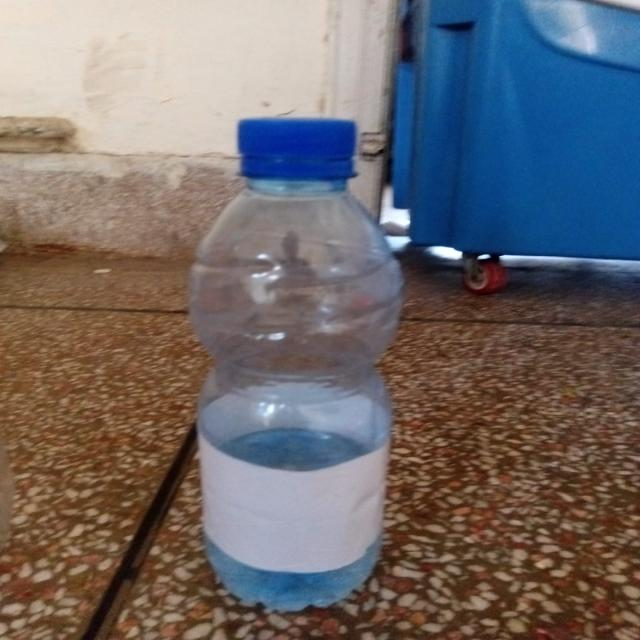bottle: (180, 97, 400, 620)
cap: (226, 106, 366, 198)
label: (190, 426, 388, 578)
